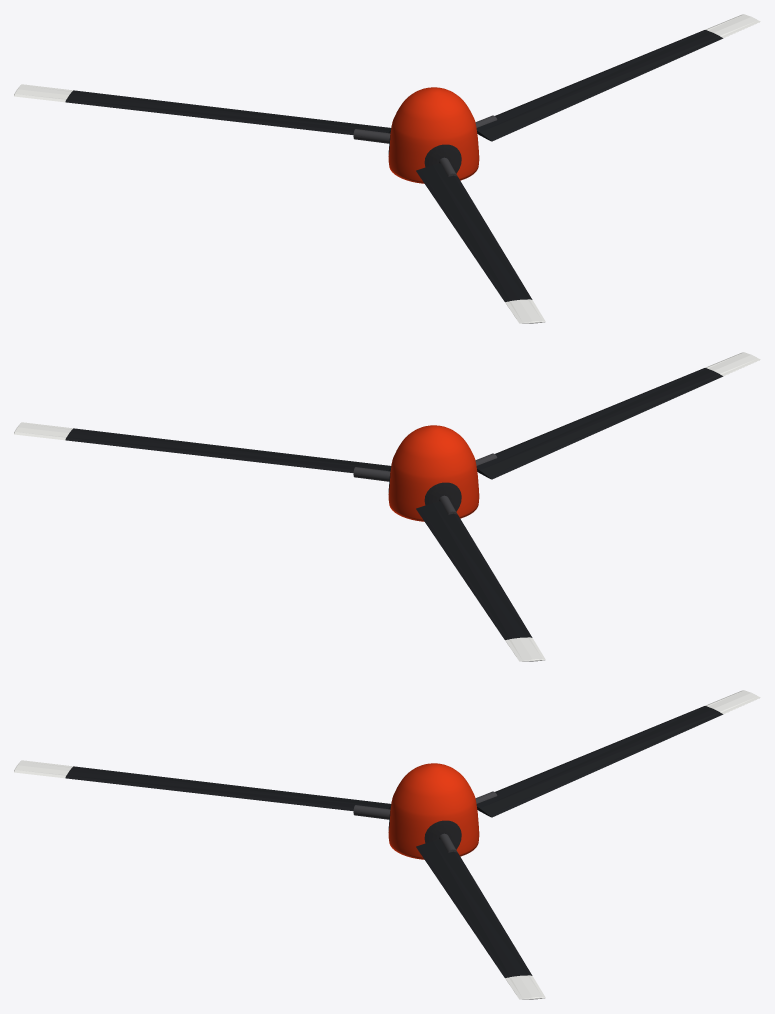
Rendered from rotor_1.glb.
3 views of the same model, one above another, from view 1: azimuth 30°, elevation 25°; view 2: azimuth 150°, elevation 25°; view 3: azimuth 270°, elevation 25° (orthographic).
Parts seen in each view (by area): view 1: rotor_1; view 2: rotor_1; view 3: rotor_1.
Boxes of the visible parts, x1,y1,x2,y2 form: rotor_1: (14,14,760,323); rotor_1: (14,352,760,661); rotor_1: (14,690,760,999).
Bounding box in the file's own units: 4.69 × 0.5303 × 4.77.
